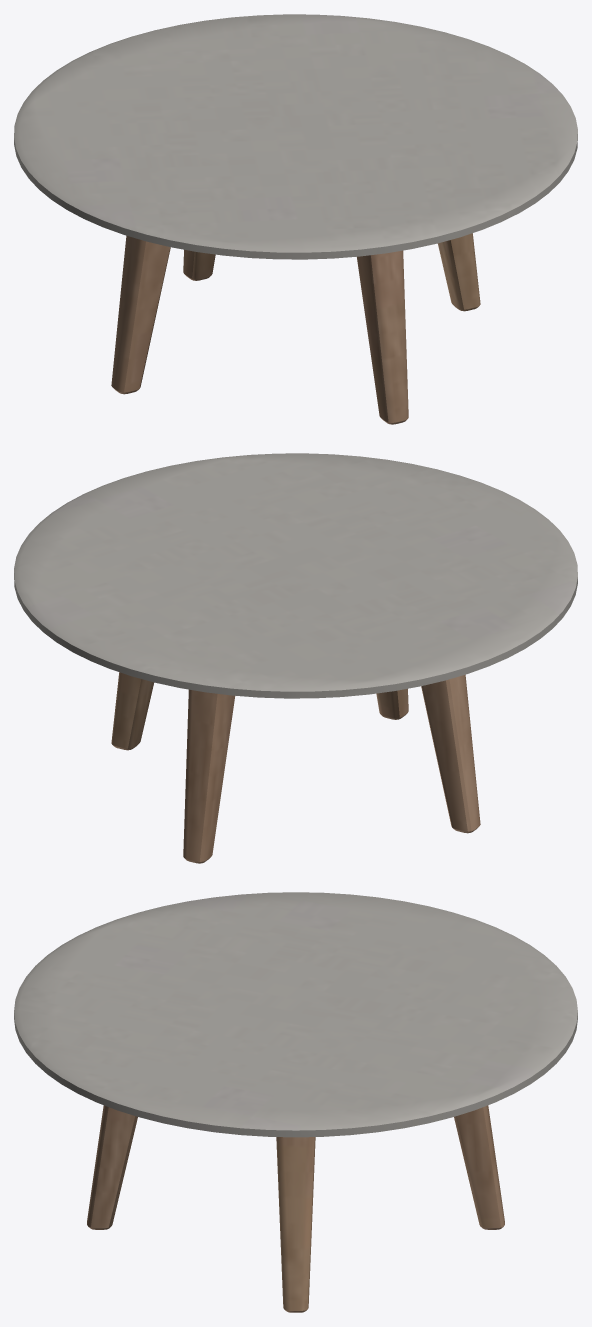
Rendered from cargo_retro_table.glb.
3 renders of one model, top to bottom at view 1: azimuth 30°, elevation 25°; view 2: azimuth 150°, elevation 25°; view 3: azimuth 270°, elevation 25°, orthographic.
Visible parts, largest first — view 1: KB3D_ATP_PropTable_A_Main; view 2: KB3D_ATP_PropTable_A_Main; view 3: KB3D_ATP_PropTable_A_Main.
Part boxes in pixels (<box>): KB3D_ATP_PropTable_A_Main: <box>14,14,577,424</box>; KB3D_ATP_PropTable_A_Main: <box>14,453,577,863</box>; KB3D_ATP_PropTable_A_Main: <box>14,892,577,1312</box>.
Bounding box in the file's own units: 1.3 × 0.5507 × 1.3.
2 materials, 2 textured.
